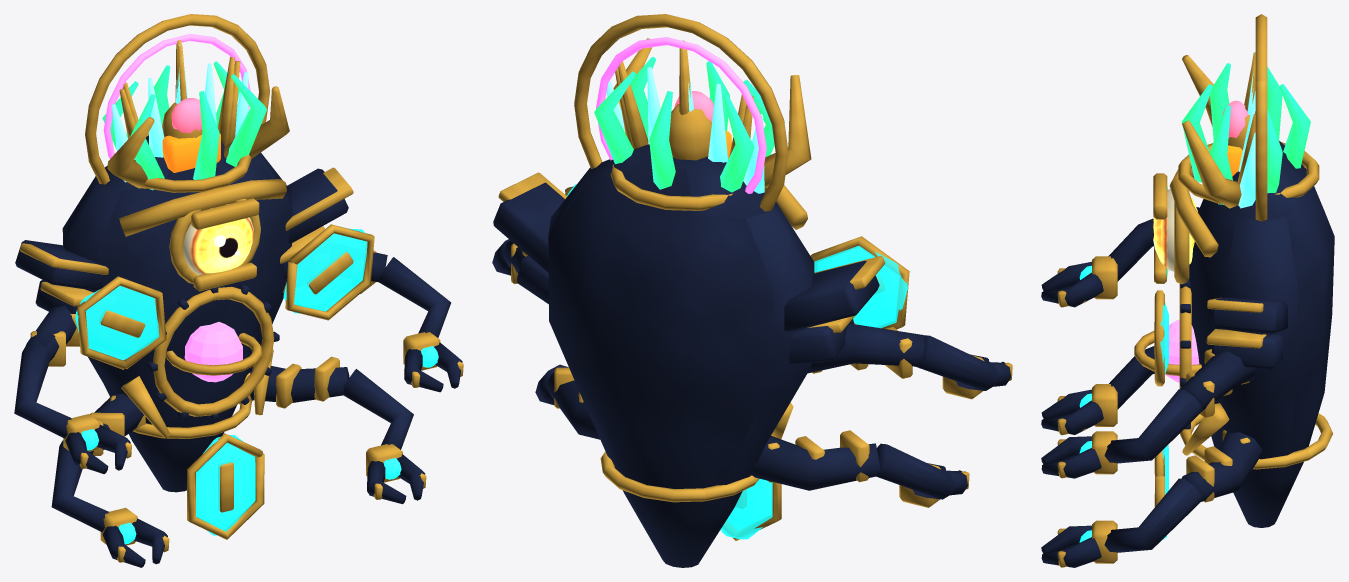
Rendered from enemy_siphon_warden.glb.
3 views of the same model, side by side, from view 1: azimuth 30°, elevation 25°; view 2: azimuth 150°, elevation 25°; view 3: azimuth 270°, elevation 25° (orthographic). The views are drawn at different scales.
Visible parts, largest first — view 1: warden_mantle, crown_act_5, shield_1, shield_0, shield_2, crown_act_3, tentacle_dist_0, siphon_core_outer, tentacle_dist_1, tentacle_dist_3, tentacle_dist_2, crown_act_1 (+10 smaller); view 2: warden_mantle, crown_act_5, crown_act_3, tentacle_prox_2, crown_act_2, shield_2, tentacle_prox_0, tentacle_dist_2, tentacle_dist_0, crown_act_1, shield_0, tentacle_prox_3 (+1 smaller); view 3: warden_mantle, crown_act_3, tentacle_dist_3, tentacle_dist_1, tentacle_dist_0, tentacle_dist_2, tentacle_prox_3, crown_act_1, crown_act_5, crown_act_2, tentacle_prox_1, warden_iris (+7 smaller).
Boxes of the visible parts, left/top/right/bottom form: warden_mantle: left=15, top=135, right=353, bottom=492; crown_act_5: left=85, top=14, right=269, bottom=184; shield_1: left=283, top=224, right=374, bottom=320; shield_0: left=187, top=433, right=264, bottom=539; shield_2: left=75, top=276, right=166, bottom=369; crown_act_3: left=102, top=61, right=266, bottom=190; tentacle_dist_0: left=14, top=345, right=131, bottom=473; siphon_core_outer: left=147, top=284, right=279, bottom=420; tentacle_dist_1: left=379, top=257, right=463, bottom=392; tentacle_dist_3: left=343, top=369, right=426, bottom=504; tentacle_dist_2: left=51, top=440, right=169, bottom=567; crown_act_1: left=107, top=86, right=289, bottom=188; warden_mantle: left=493, top=144, right=885, bottom=567; crown_act_5: left=574, top=14, right=788, bottom=211; crown_act_3: left=594, top=57, right=784, bottom=192; tentacle_prox_2: left=750, top=430, right=880, bottom=490; crown_act_2: left=606, top=67, right=764, bottom=210; shield_2: left=810, top=236, right=909, bottom=329; tentacle_prox_0: left=807, top=322, right=924, bottom=378; tentacle_dist_2: left=876, top=443, right=969, bottom=507; tentacle_dist_0: left=916, top=335, right=1012, bottom=399; crown_act_1: left=613, top=38, right=811, bottom=187; shield_0: left=720, top=479, right=781, bottom=540; tentacle_prox_3: left=546, top=367, right=599, bottom=439; warden_mantle: left=1169, top=141, right=1334, bottom=527; crown_act_3: left=1181, top=63, right=1310, bottom=204; tentacle_dist_3: left=1041, top=478, right=1202, bottom=567; tentacle_dist_1: left=1041, top=389, right=1202, bottom=478; tentacle_dist_0: left=1041, top=218, right=1153, bottom=307; tentacle_dist_2: left=1041, top=346, right=1154, bottom=435; tentacle_prox_3: left=1181, top=430, right=1262, bottom=502; crown_act_1: left=1182, top=55, right=1242, bottom=208; crown_act_5: left=1252, top=14, right=1267, bottom=221; crown_act_2: left=1178, top=53, right=1319, bottom=208; tentacle_prox_1: left=1180, top=349, right=1257, bottom=417; warden_iris: left=1153, top=189, right=1197, bottom=271.
Size of the model in its own units: 2.1 by 2.24 by 1.16.
Materials: 11 (3 with a texture image).
